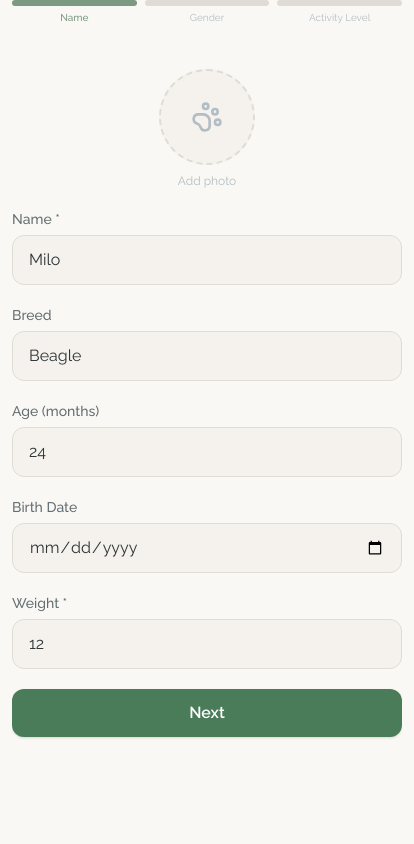
Test: PetForm › shows reproduction fields only for intact females
Click the button "Next".
click(207, 713)  # box [12,689,402,737]
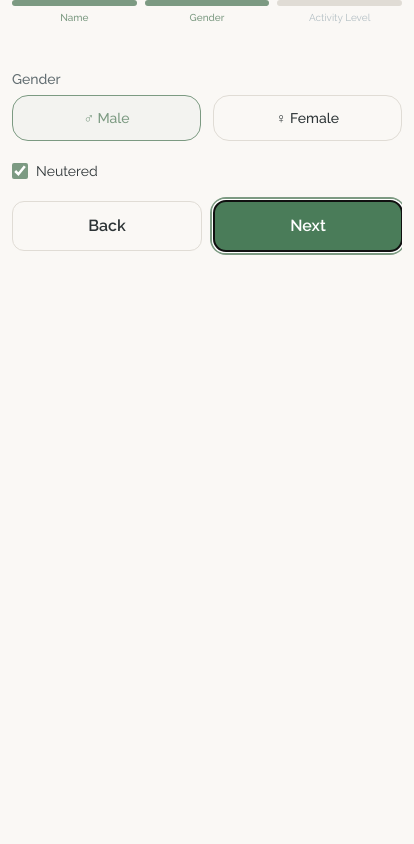
Click the radio button labelled "♀ Female".
click(308, 118)  # box [213,95,402,141]
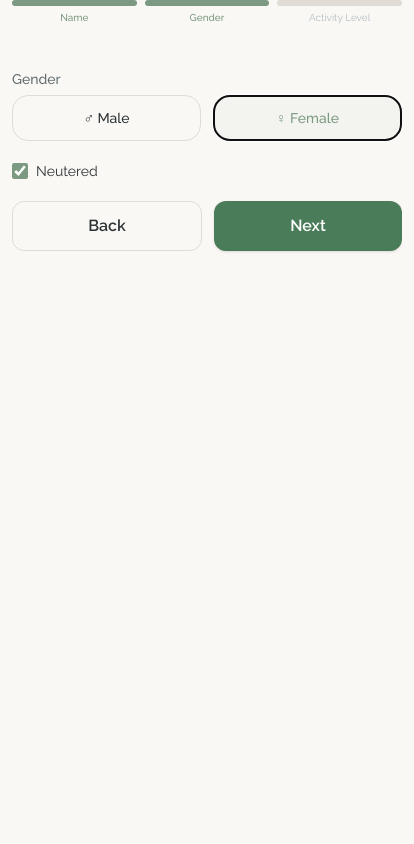
Expected: the element "reproductive state" is not shown
Click the checkbox labelled "Neutered".
click(20, 171)  # box [12,163,28,179]
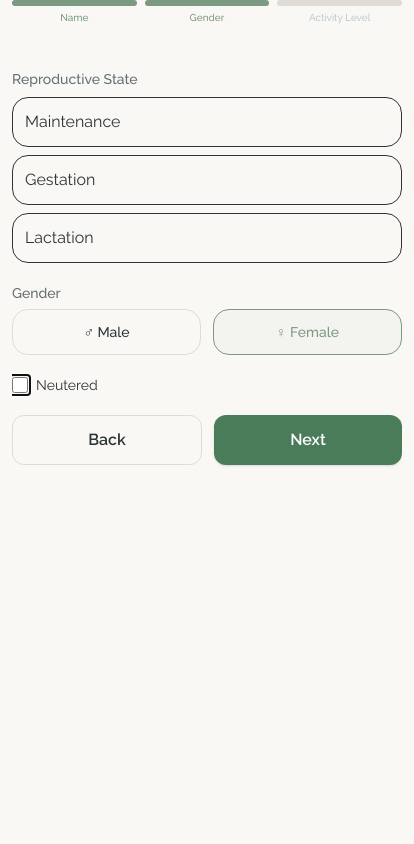
Expected: the element named "reproductive state" is shown, [12,97,402,263]
